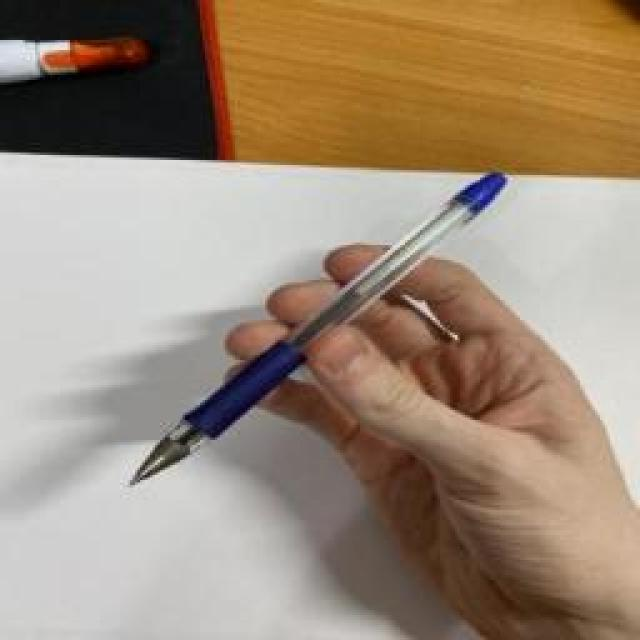pen: (125, 170, 510, 490)
